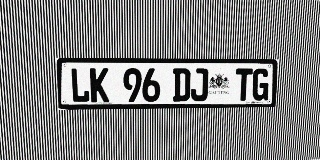6: (142, 68, 160, 102)
9: (123, 68, 142, 102)
D: (173, 68, 191, 102)
G: (252, 68, 270, 101)
J: (190, 68, 208, 101)
K: (90, 68, 109, 102)
L: (70, 68, 90, 103)
T: (235, 68, 253, 101)
